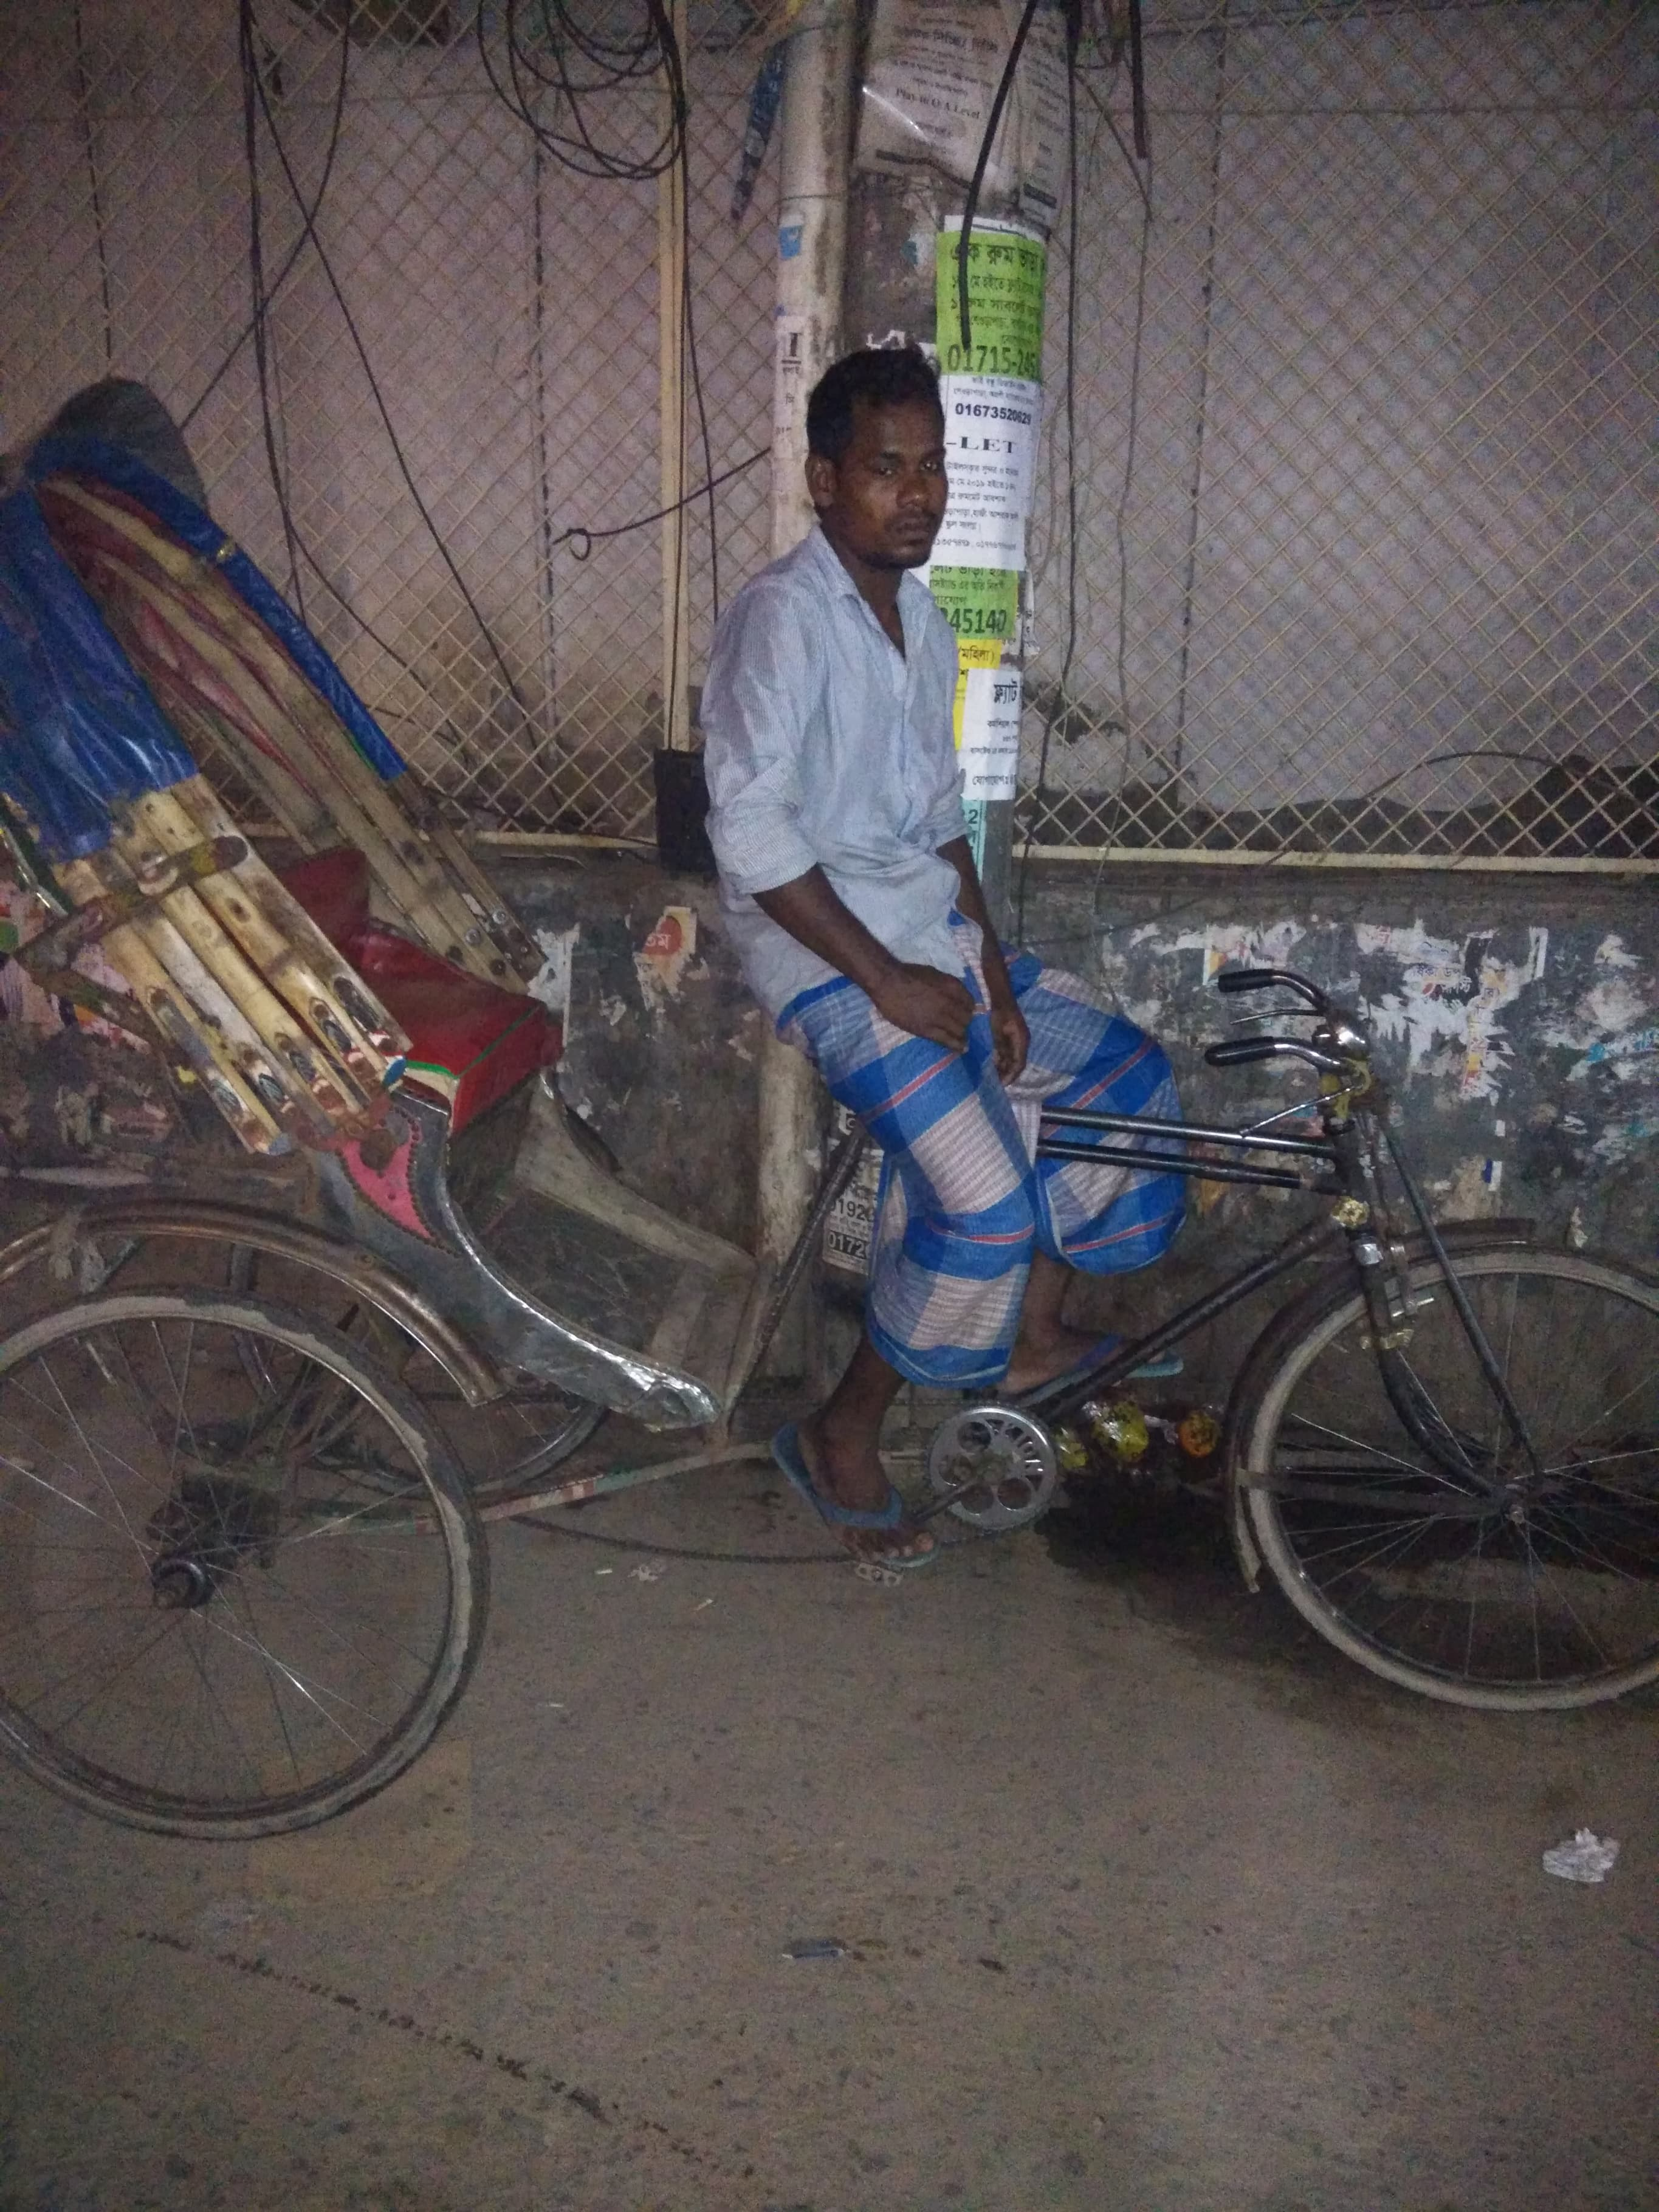Rickshaw: (10, 343, 1657, 1832)
